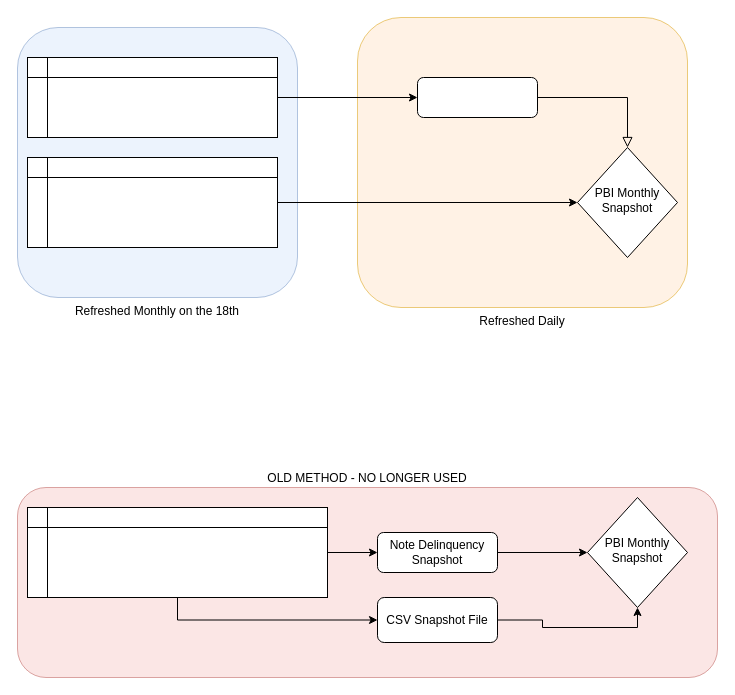
Image size: 735x695. Some labels were removed from this diagram. Here are the shapes that lost their labels. From the top down, the centre of each, then its label:
At (x=152, y=97): "Databricks Table silver_pbi_mill. Additional_Notes".
At (x=477, y=97): "Additional Notes Dataflow".
At (x=152, y=202): "Databricks Table silver_pbi_mill. note_snapShot".
At (x=177, y=552): "Databricks Table silver_pbi_mill. note_delinquency_clinics".
